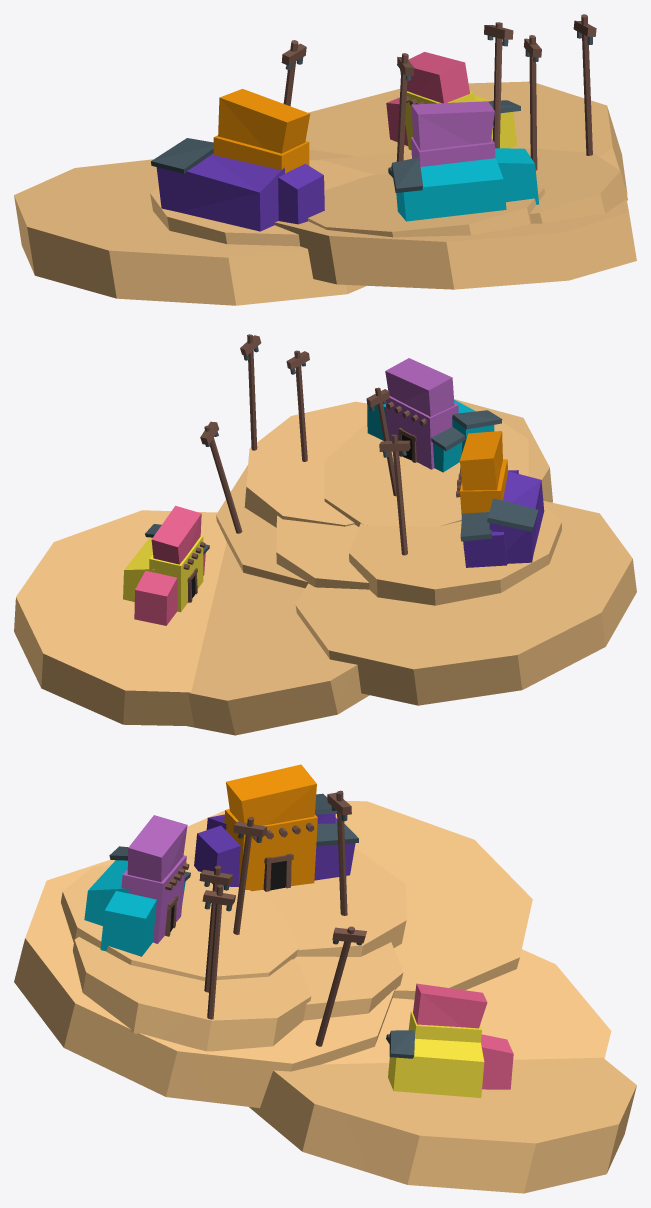
The model's file is desert_town_collision.obj.
The picture shows the model from 3 angles, top to bottom: view 1: azimuth 30°, elevation 25°; view 2: azimuth 150°, elevation 25°; view 3: azimuth 270°, elevation 25°; orthographic projection. The views are drawn at different scales.
Visible parts, largest first — view 1: mesh1218468004; view 2: mesh1218468004; view 3: mesh1218468004.
Boxes of the visible parts, x1=… form: mesh1218468004: x1=14, y1=14, x2=636, y2=305; mesh1218468004: x1=14, y1=334, x2=636, y2=735; mesh1218468004: x1=14, y1=764, x2=636, y2=1193.
Size of the model in its own units: 5.13 by 2.33 by 4.61.
